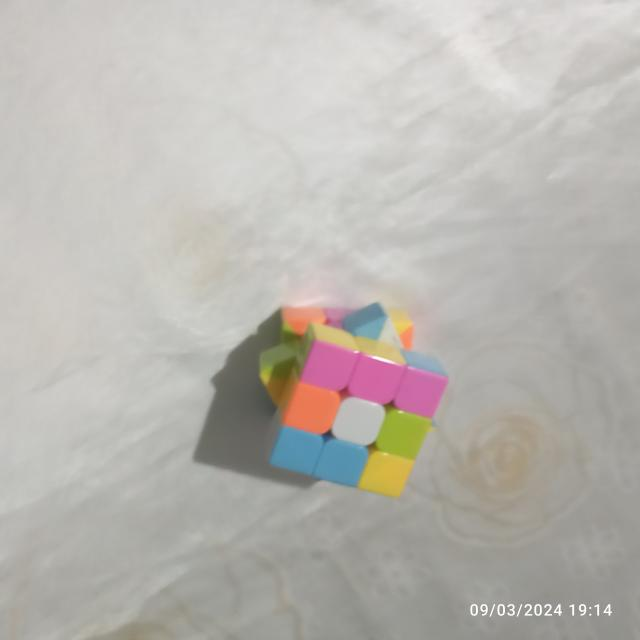Rub: (254, 297, 453, 504)
